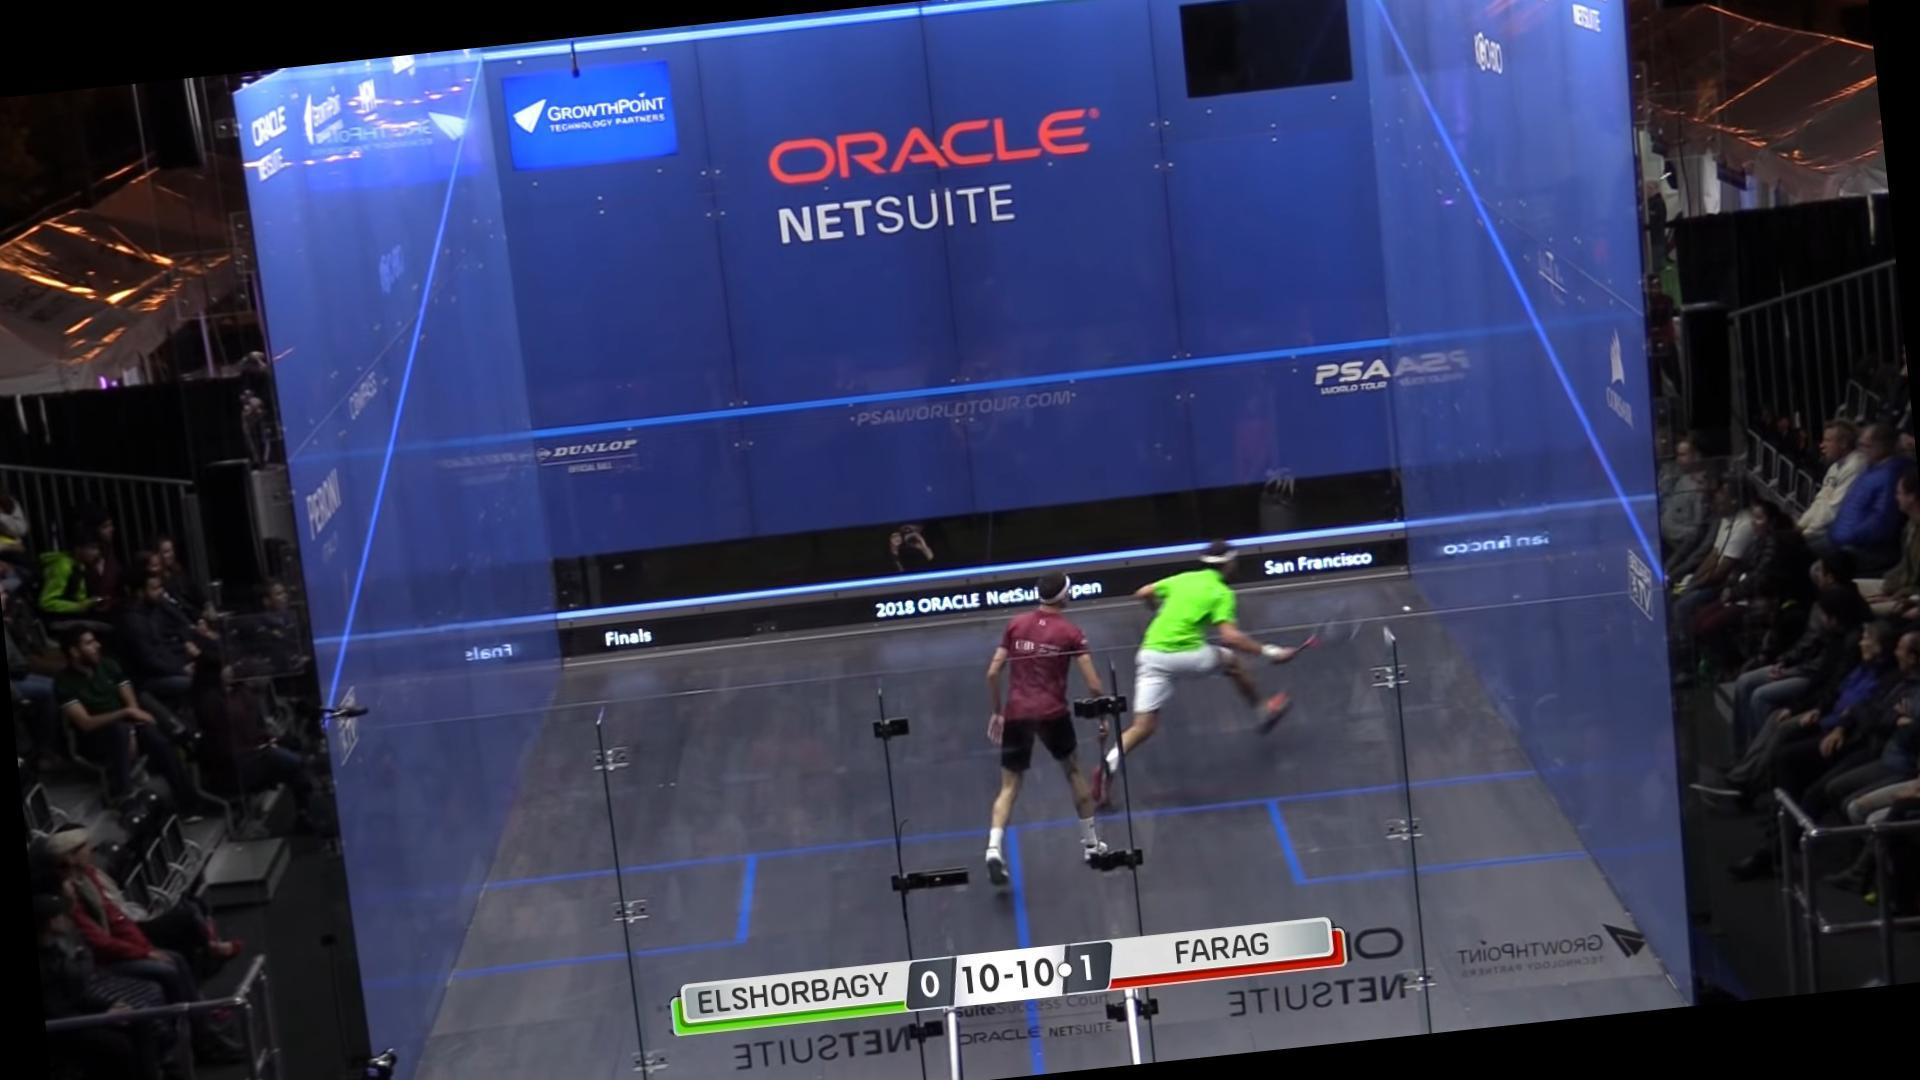Squash-Ball: (1390, 589, 1425, 621)
